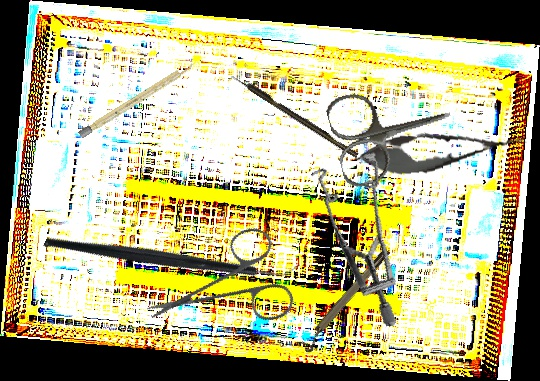Chopper: (42, 150, 302, 359)
Fixation Ring: (296, 246, 396, 355)
Hook Surgical: (230, 71, 359, 160)
Iris Scissors: (144, 200, 316, 371), (323, 70, 463, 191)
Micro Scissor: (352, 118, 532, 183)
Scalpel Handle: (77, 61, 196, 139)
Speculum: (275, 135, 442, 329)
